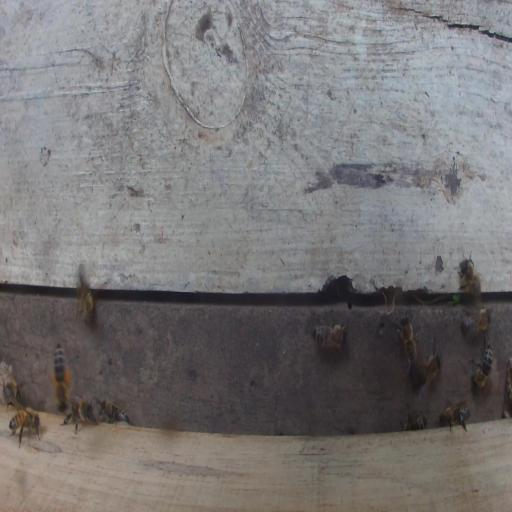nonpollenbee: (311, 308, 347, 354), (60, 394, 98, 435), (8, 406, 42, 448), (396, 314, 417, 377), (469, 335, 493, 390), (415, 352, 441, 399), (77, 262, 94, 326), (460, 306, 491, 341), (458, 252, 482, 297), (438, 401, 470, 433), (97, 399, 130, 425), (2, 380, 22, 411)
pollenbee: (50, 341, 71, 414)
